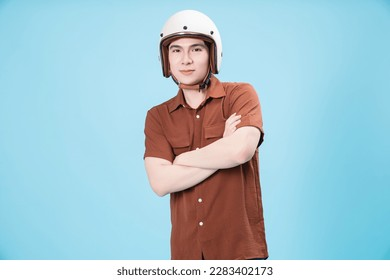helmets: (160, 9, 223, 77)
